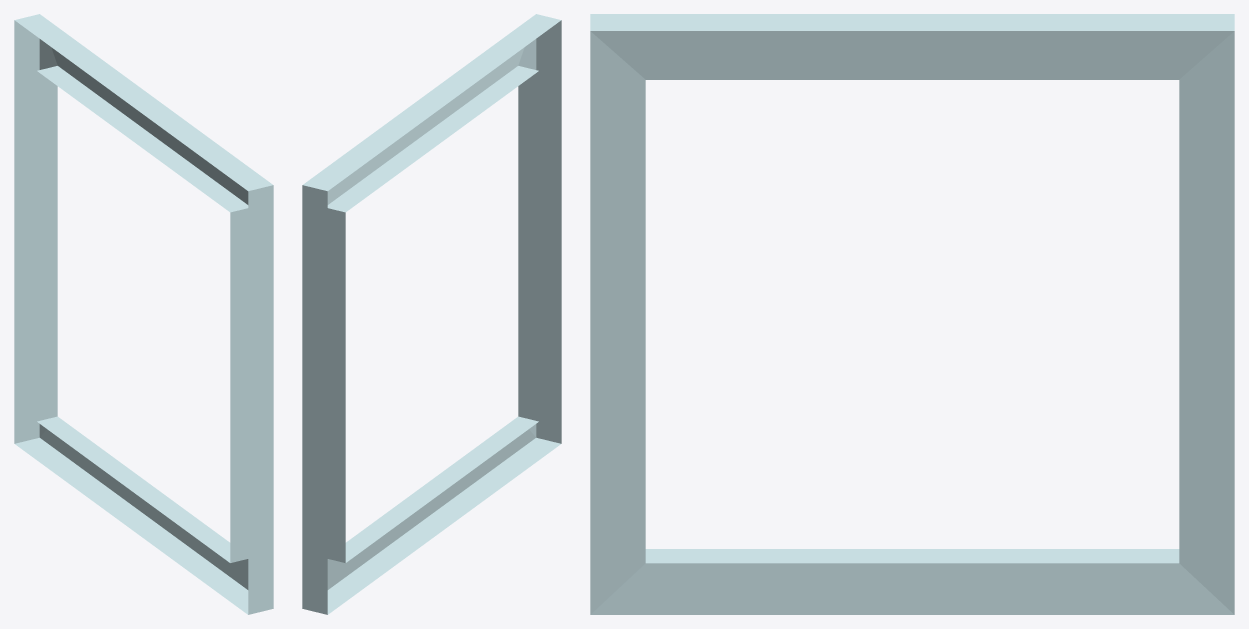
The model's file is SS_Castle_Window2.fbx.
3 views of the same model, side by side, from view 1: azimuth 30°, elevation 25°; view 2: azimuth 150°, elevation 25°; view 3: azimuth 270°, elevation 25° (orthographic). The views are drawn at different scales.
Visible parts, largest first — view 1: CastleWindow2; view 2: CastleWindow2; view 3: CastleWindow2.
Part boxes in pixels (x1=…): CastleWindow2: x1=14, y1=14, x2=273, y2=614; CastleWindow2: x1=302, y1=14, x2=561, y2=614; CastleWindow2: x1=590, y1=14, x2=1234, y2=614.
Bounding box in the file's own units: 0.25 × 4 × 4.
